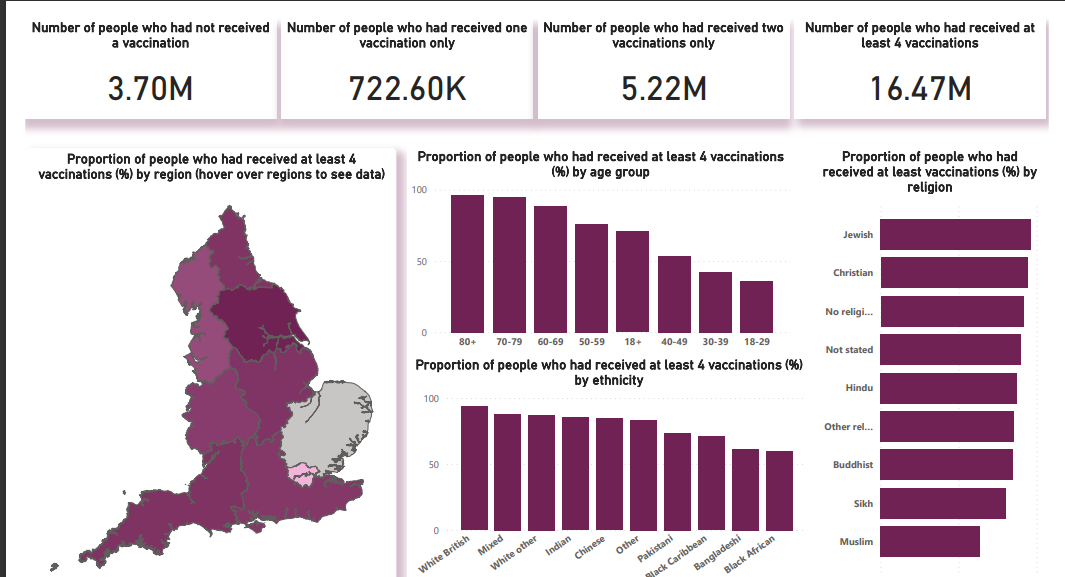

This screenshot's page, from the dashboard's own definition file:
{"tool":"powerbi","page":{"name":"Page 1","canvas":[1280,720],"ordinal":0},"visuals":[{"type":"shapeMap","title":"Proportion of people who had received at least 4 vaccinations (%) by region  (hover over regions to see data)","fields":{"Category":["Table1.Region"],"Value":["Max(Table1.Proportion of people who had received at least four vaccinations (%))"]},"box":[0,161,464,558.8],"z":0},{"type":"card","title":"Number of people who had not received a vaccination","fields":{"Values":["Max(Table1.Number of people who had not received a vaccination)"]},"box":[0,0,313.8,123.9],"z":1000},{"type":"clusteredColumnChart","title":"Proportion of people who had received at least 4 vaccinations (%) by age group","fields":{"Y":["Max(Table1.Proportion of people who had received at least four vaccinations (%))"],"Category":["Table1.Age group"]},"box":[477.6,161,484.5,260.1],"z":2000},{"type":"card","title":"Number of people who had received one vaccination only","fields":{"Values":["Max(Table1.Number of people who had received one vaccination only )"]},"box":[320.6,0,314,123.9],"z":3000},{"type":"card","title":"Number of people who had received two vaccinations only","fields":{"Values":["Max(Table1.Number of people who had received two vaccinations only )"]},"box":[641.4,0,313.8,123.9],"z":4000},{"type":"clusteredColumnChart","title":"Proportion of people who had received at least 4 vaccinations (%) by ethnicity","fields":{"Y":["Custom Measures.Max Proportion of People Received A/L 4 Vaccs"],"Category":["Table1.Ethnicity"]},"box":[477.6,421.2,505.1,298.7],"z":5000},{"type":"clusteredBarChart","title":"Proportion of people who had received at least vaccinations (%) by religion","fields":{"Category":["Table1.Religion"],"Y":["Max(Table1.Proportion of people who had received at least four vaccinations (%))"]},"box":[982.7,161,297.3,558.8],"z":6000},{"type":"card","title":"Number of people who had received at least 4 vaccinations","fields":{"Values":["Max(Table1.Number of people who had received at least four vaccinations)"]},"box":[962.1,0,313.8,123.9],"z":7000}]}

Visuals, with their boxes on the page's 1280x720 design canvas (x1, y1, x2, y2). These are canvas units, not pixel positions in the 1065x577 screenshot, which may show the page scaled, cropped or inside an application window:
"Proportion of people who had received at least 4 vaccinations (%) by region  (hover over regions to see data)" shapeMap: x1=0, y1=161, x2=464, y2=720
"Number of people who had not received a vaccination" card: x1=0, y1=0, x2=314, y2=124
"Proportion of people who had received at least 4 vaccinations (%) by age group" clusteredColumnChart: x1=478, y1=161, x2=962, y2=421
"Number of people who had received one vaccination only" card: x1=321, y1=0, x2=635, y2=124
"Number of people who had received two vaccinations only" card: x1=641, y1=0, x2=955, y2=124
"Proportion of people who had received at least 4 vaccinations (%) by ethnicity" clusteredColumnChart: x1=478, y1=421, x2=983, y2=720
"Proportion of people who had received at least vaccinations (%) by religion" clusteredBarChart: x1=983, y1=161, x2=1280, y2=720
"Number of people who had received at least 4 vaccinations" card: x1=962, y1=0, x2=1276, y2=124
